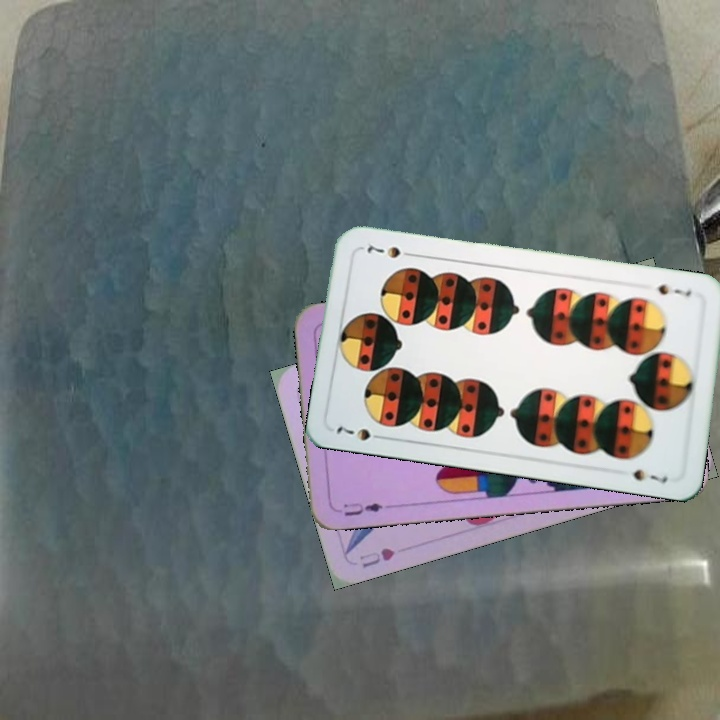EU: (339, 498, 385, 519)
HU: (355, 543, 398, 571)
S7: (332, 422, 389, 443), (645, 280, 694, 298)
